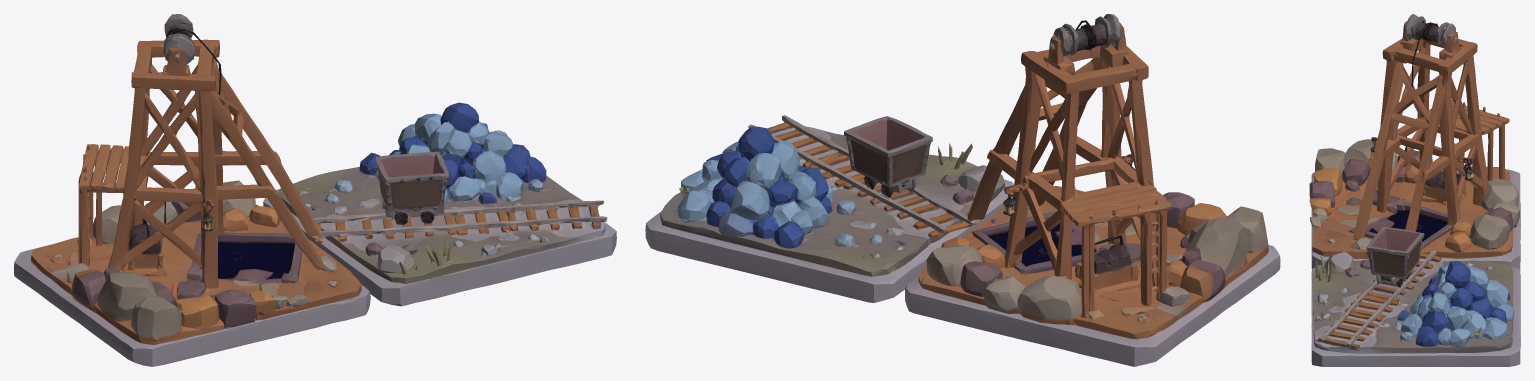
File: miningStation.fbx
The picture shows the model from 3 angles, left to right: view 1: azimuth 30°, elevation 25°; view 2: azimuth 150°, elevation 25°; view 3: azimuth 270°, elevation 25°; orthographic projection. The views are drawn at different scales.
Visible parts, largest first — view 1: model; view 2: model; view 3: model.
Part boxes in pixels (box(x1,y1,x2,y2)): model: box(14, 14, 616, 366); model: box(645, 14, 1280, 366); model: box(1309, 14, 1520, 366).
Size of the model in its own units: 190 by 97.65 by 89.92.
1 material, 1 textured.
